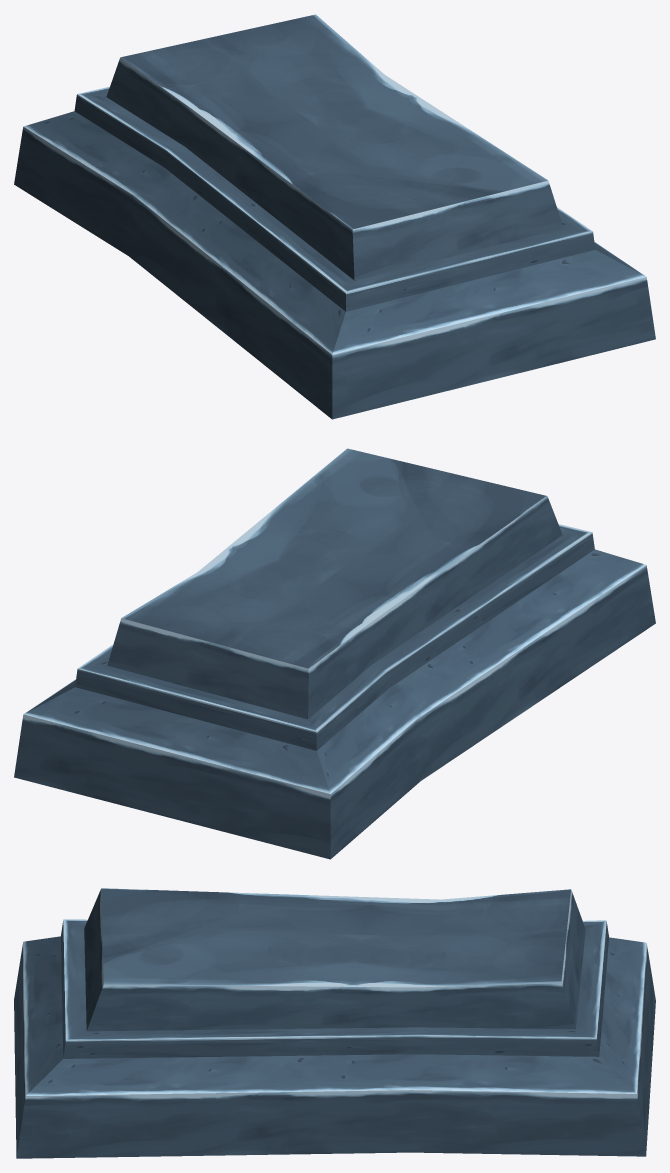
Rendered from SM_PROP_stonegrave_v01_01.fbx.
3 views of the same model, one above another, from view 1: azimuth 30°, elevation 25°; view 2: azimuth 150°, elevation 25°; view 3: azimuth 270°, elevation 25° (orthographic).
Visible parts, largest first — view 1: SM_PROP_stonegrave_v01_01; view 2: SM_PROP_stonegrave_v01_01; view 3: SM_PROP_stonegrave_v01_01.
Part boxes in pixels (bbox=[...]): SM_PROP_stonegrave_v01_01: bbox=[14, 14, 655, 419]; SM_PROP_stonegrave_v01_01: bbox=[14, 448, 655, 859]; SM_PROP_stonegrave_v01_01: bbox=[14, 888, 655, 1158].
Bounding box in the file's own units: 239 × 99.94 × 407.
